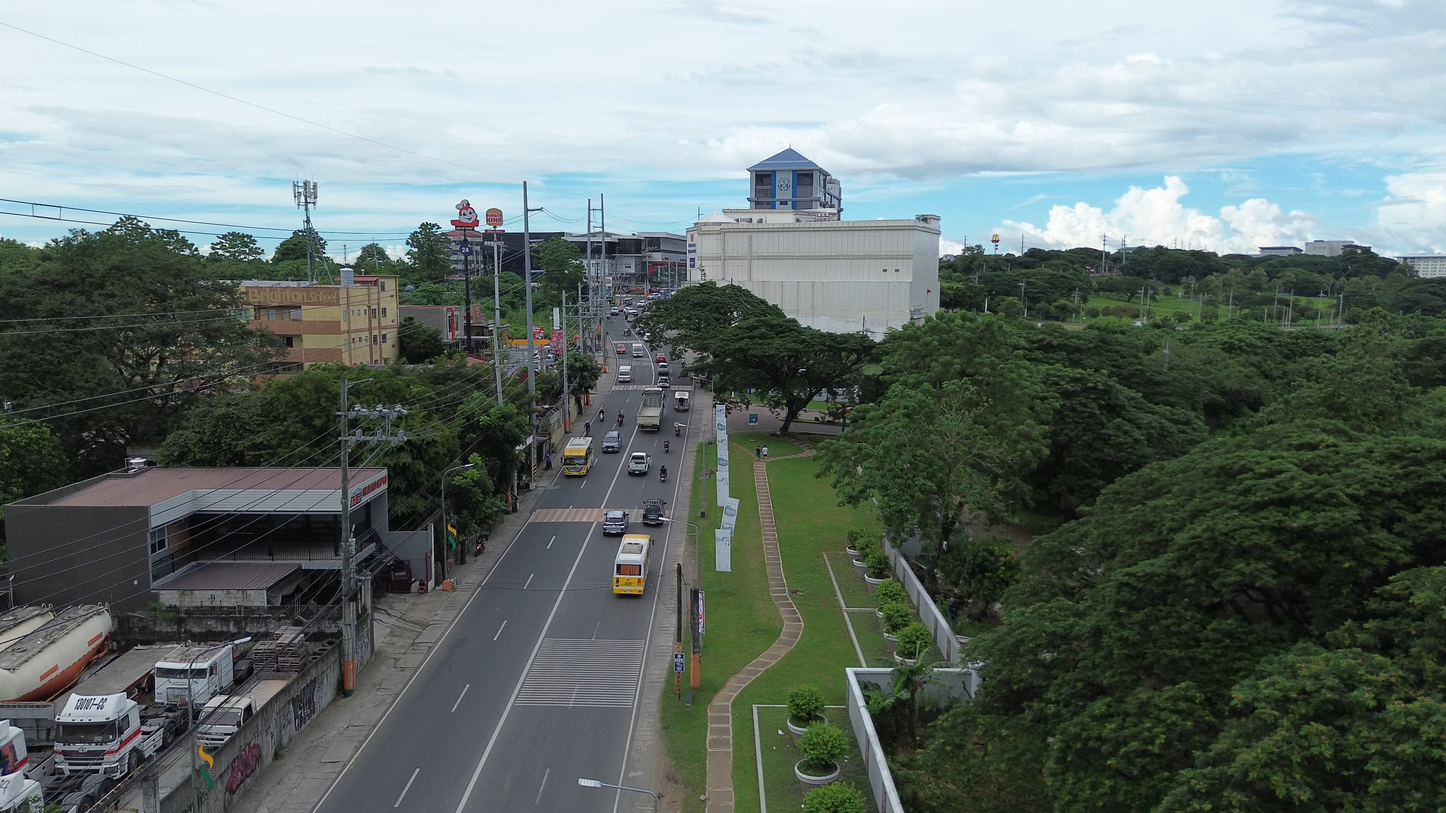bus: (613, 534, 651, 595), (562, 437, 593, 476)
car: (656, 371, 670, 388), (656, 359, 668, 373), (616, 343, 628, 355)
motorcycle: (659, 467, 667, 482), (665, 440, 669, 452)
truck: (637, 387, 663, 431)
vehicle: (0, 605, 112, 702), (54, 694, 171, 778), (196, 679, 287, 749), (154, 645, 234, 708), (196, 696, 256, 749), (0, 772, 44, 813), (602, 509, 629, 535), (641, 498, 666, 525), (628, 452, 650, 475), (602, 431, 620, 453), (672, 390, 690, 411), (616, 365, 633, 383), (656, 370, 670, 389), (631, 343, 645, 357), (656, 358, 668, 372), (655, 352, 667, 364), (615, 343, 627, 355), (660, 465, 666, 482), (609, 308, 619, 315)
